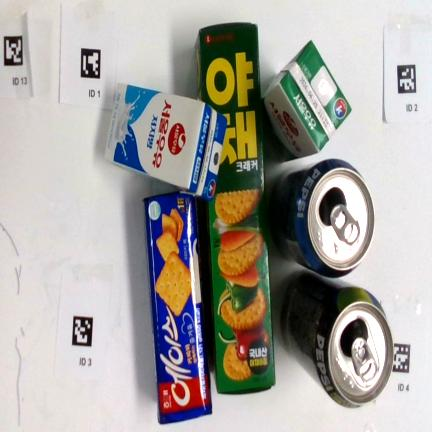can_pepsi: (268, 158, 375, 277)
can_pepsi_zero: (282, 272, 393, 407)
cracker_ace: (143, 192, 212, 423)
cracker_vege: (193, 23, 275, 395)
milk_blue: (105, 84, 226, 201)
milk_green: (263, 41, 351, 157)
